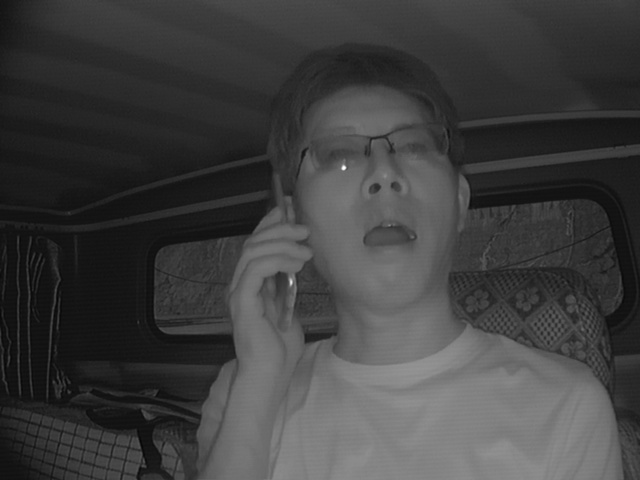hand: (216, 209, 317, 368)
